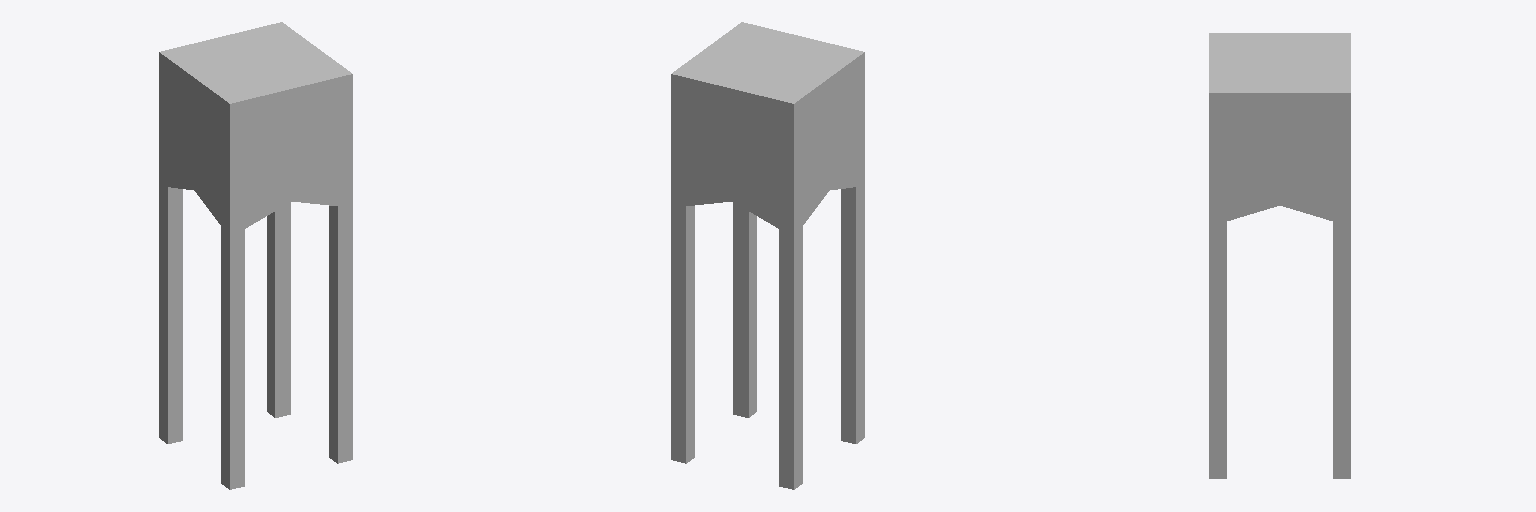
The model's file is Tower-1x3.obj.
3 views of the same model, side by side, from view 1: azimuth 30°, elevation 25°; view 2: azimuth 150°, elevation 25°; view 3: azimuth 270°, elevation 25° (orthographic).
Parts seen in each view (by area): view 1: pCube13; view 2: pCube13; view 3: pCube13.
Boxes of the visible parts, <box> form: pCube13: <box>159,22,352,489</box>; pCube13: <box>671,22,864,489</box>; pCube13: <box>1209,33,1350,478</box>.
Bounding box in the file's own units: 8 × 24 × 8.